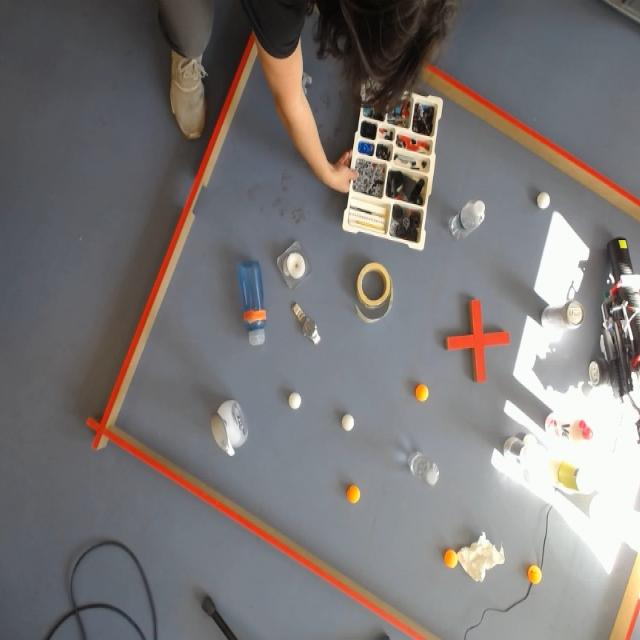orange: (344, 483, 362, 506), (413, 382, 431, 405), (526, 566, 542, 586), (443, 548, 457, 569)
robot: (589, 237, 640, 445)
robot-front: (616, 239, 628, 251)
white: (534, 189, 552, 212), (286, 391, 304, 413), (339, 411, 356, 434)
